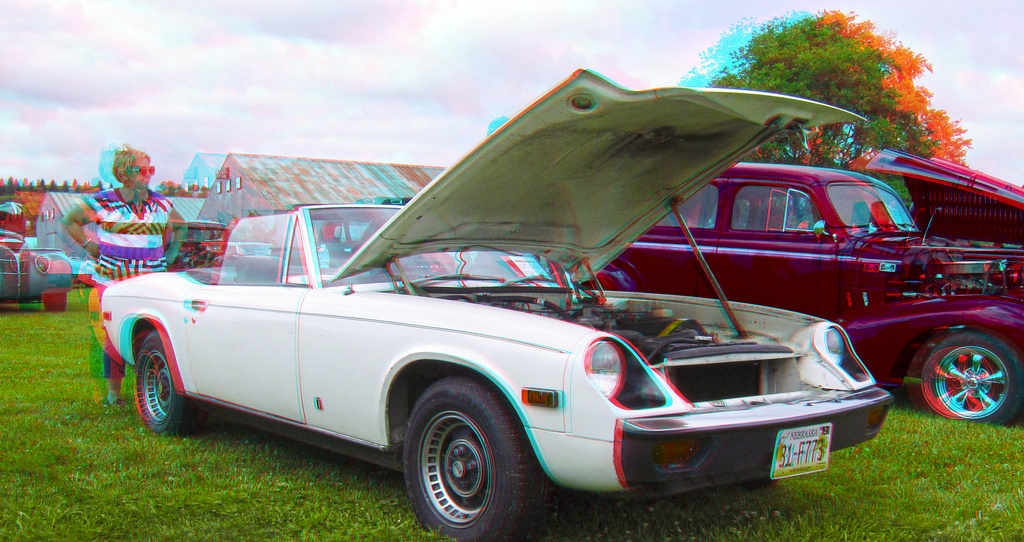mobil: (95, 217, 923, 526)
